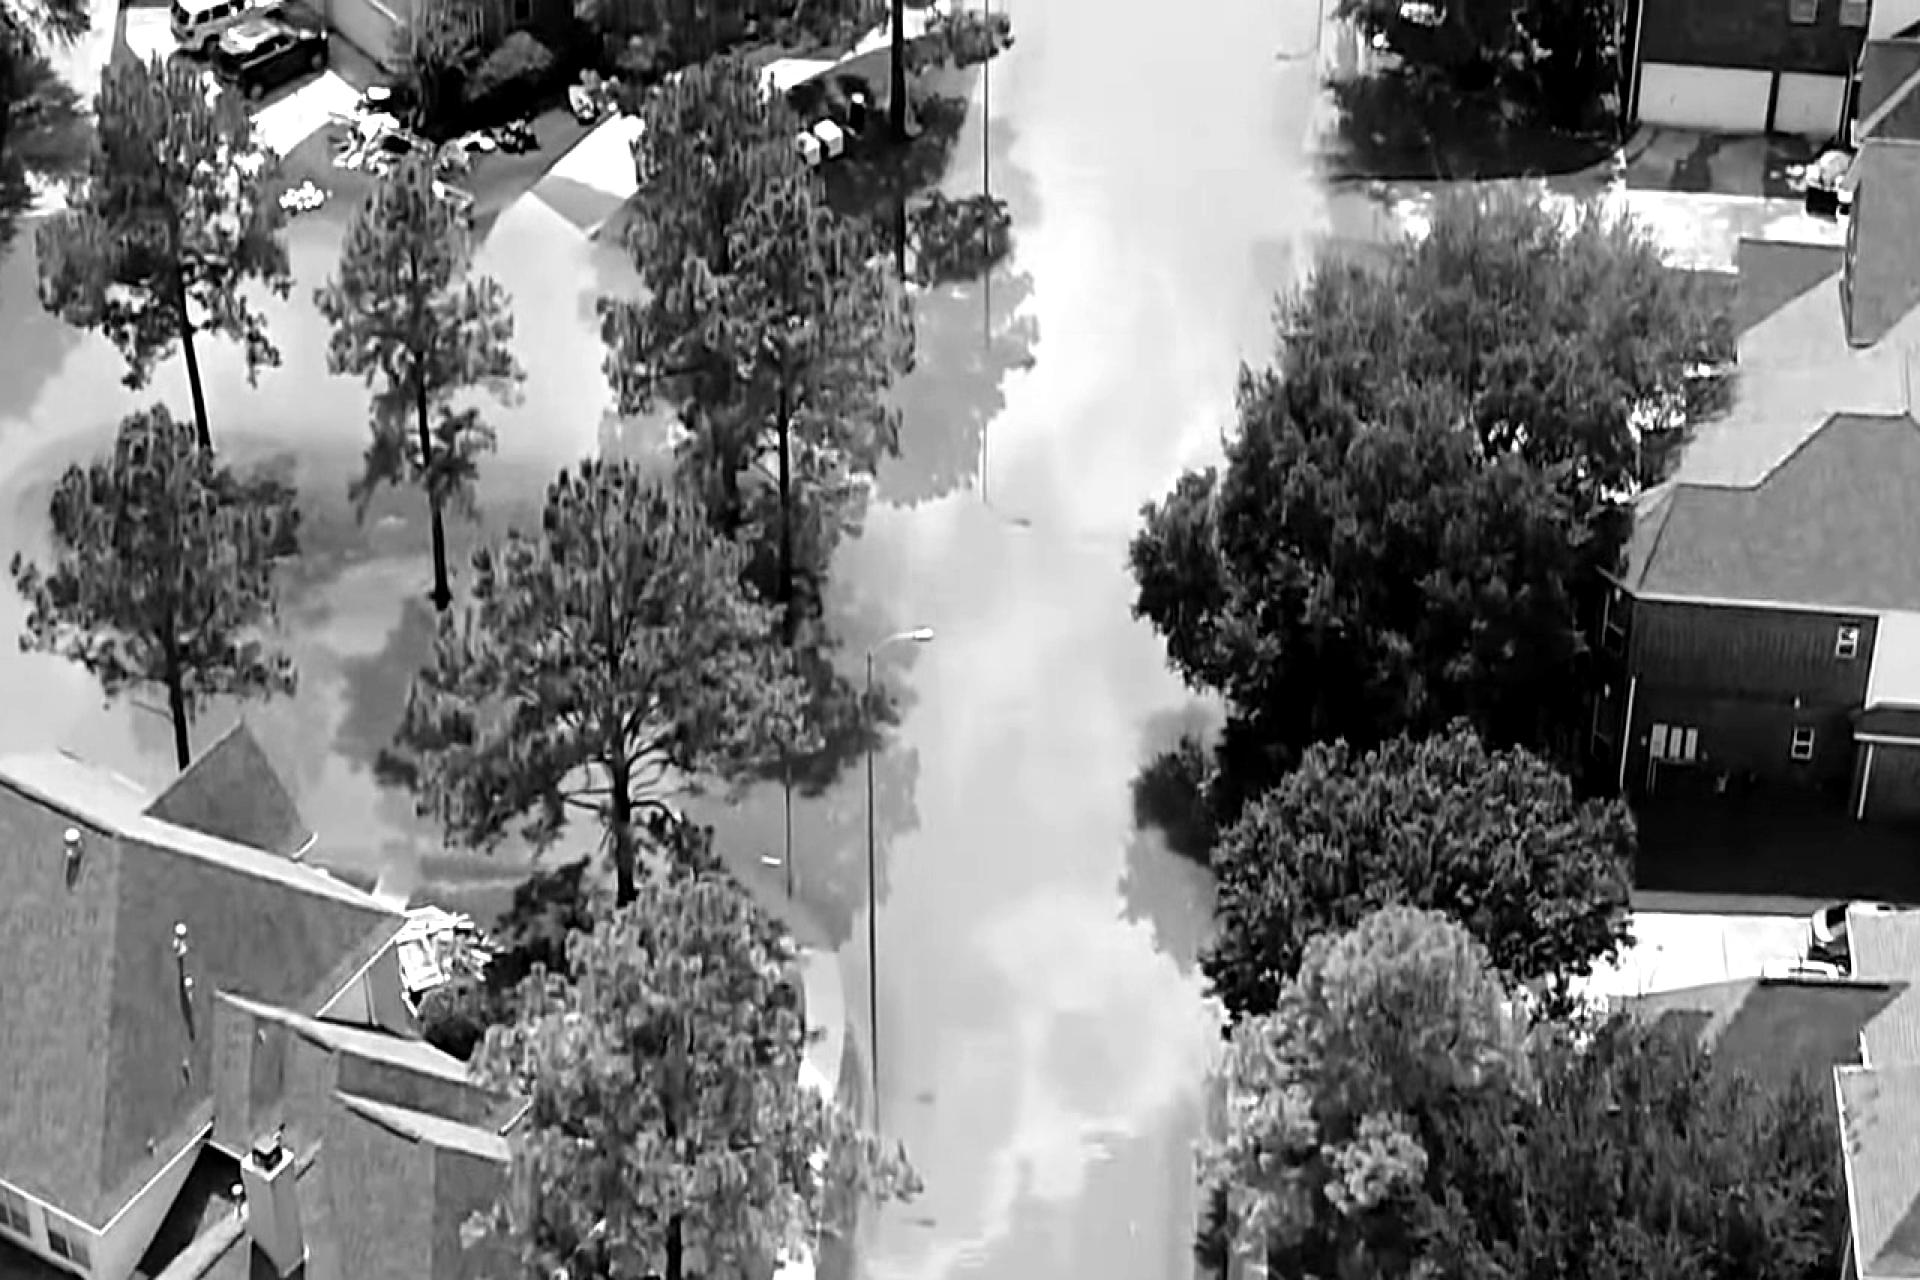House: (0, 726, 571, 1280), (1587, 143, 1920, 820), (1707, 860, 1920, 1280), (1620, 7, 1920, 160)
Vehicle: (209, 20, 331, 97)
